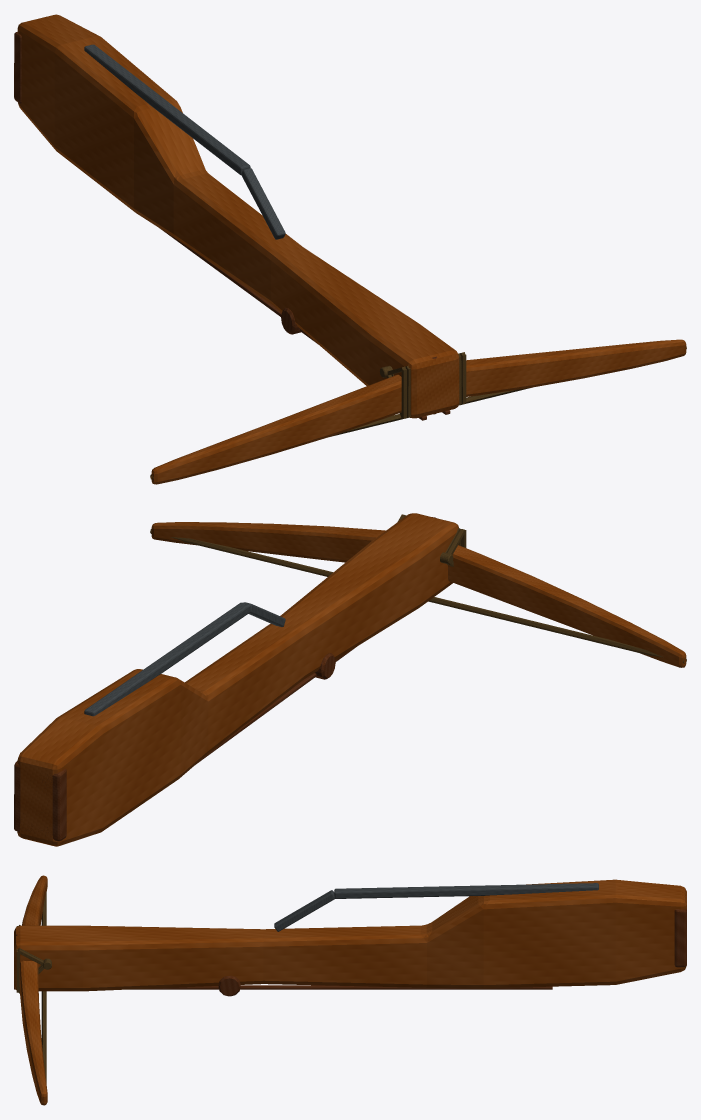
The model's file is AuxiliaImprovisedCrossbow.fbx.
3 renders of one model, top to bottom at view 1: azimuth 30°, elevation 25°; view 2: azimuth 150°, elevation 25°; view 3: azimuth 270°, elevation 25°, orthographic. The views are drawn at different scales.
Parts seen in each view (by area): view 1: AuxiliaImprovisedCrossbow_GameExport; view 2: AuxiliaImprovisedCrossbow_GameExport; view 3: AuxiliaImprovisedCrossbow_GameExport.
Boxes of the visible parts, <box> form: AuxiliaImprovisedCrossbow_GameExport: <box>14,14,686,484</box>; AuxiliaImprovisedCrossbow_GameExport: <box>14,513,686,846</box>; AuxiliaImprovisedCrossbow_GameExport: <box>14,875,686,1105</box>.
Bounding box in the file's own units: 24.73 × 32.1 × 5.93.
